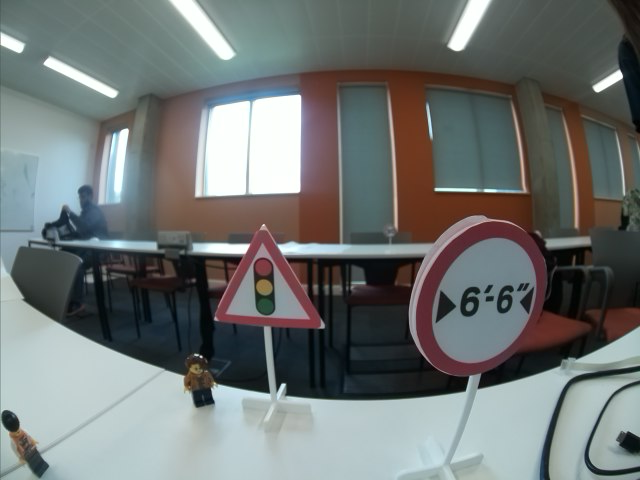6ft6: (407, 211, 547, 378)
Lego Man: (1, 406, 52, 478), (182, 353, 219, 409)
Traffic lights: (213, 227, 331, 325)
